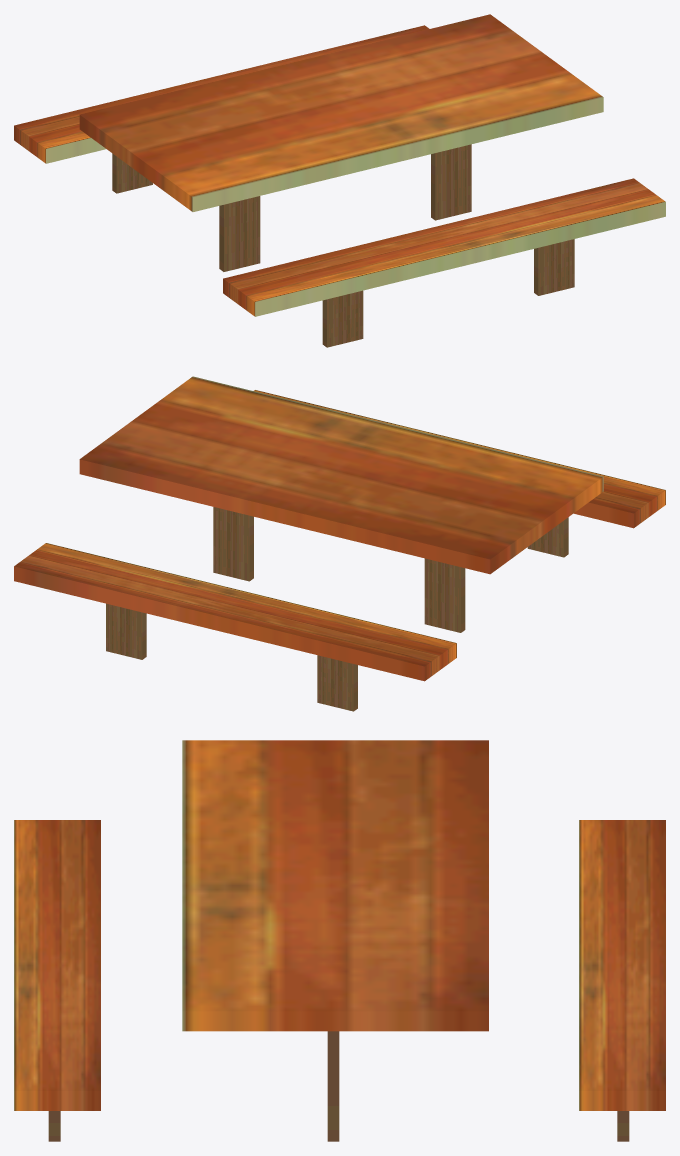
File: ParkBench.glb
3 renders of one model, top to bottom at view 1: azimuth 30°, elevation 25°; view 2: azimuth 150°, elevation 25°; view 3: azimuth 270°, elevation 25°, orthographic. The views are drawn at different scales.
Parts seen in each view (by area): view 1: ParkBench; view 2: ParkBench; view 3: ParkBench.
Boxes of the visible parts, box(x1,y1,x2,y2) form: ParkBench: box(14, 14, 665, 347); ParkBench: box(14, 376, 665, 711); ParkBench: box(14, 740, 665, 1141).
Size of the model in its own units: 379 by 119 by 386.
Materials: 2 (2 with a texture image).
